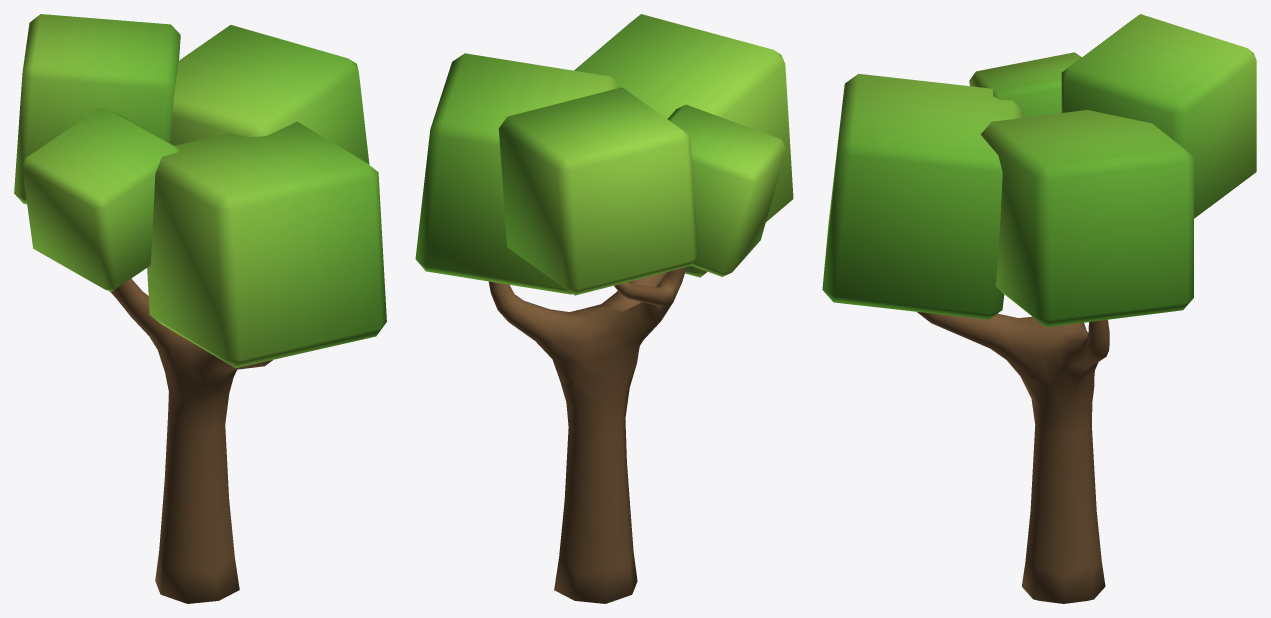
File: tree2.glb
3 renders of one model, left to right at view 1: azimuth 30°, elevation 25°; view 2: azimuth 150°, elevation 25°; view 3: azimuth 270°, elevation 25°, orthographic.
Visible parts, largest first — view 1: Plane.006; view 2: Plane.006; view 3: Plane.006.
Part boxes in pixels (x1,y1,x2,y2): Plane.006: [14, 14, 386, 603]; Plane.006: [415, 14, 793, 603]; Plane.006: [822, 14, 1256, 603].
Bounding box in the file's own units: 307 × 459 × 348.
1 material, 1 textured.
